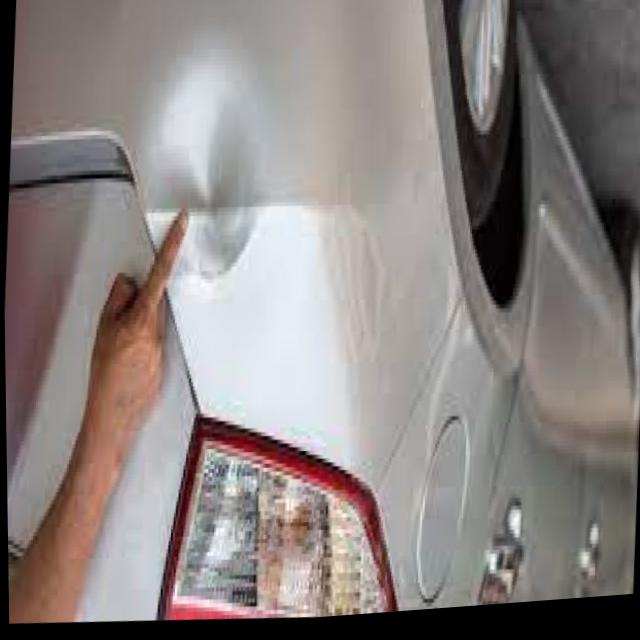Dent: (132, 54, 275, 298)
